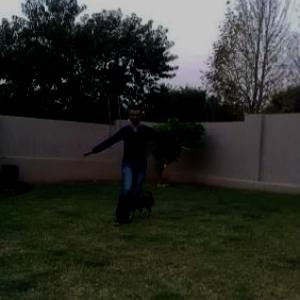land: (91, 110, 194, 230)
